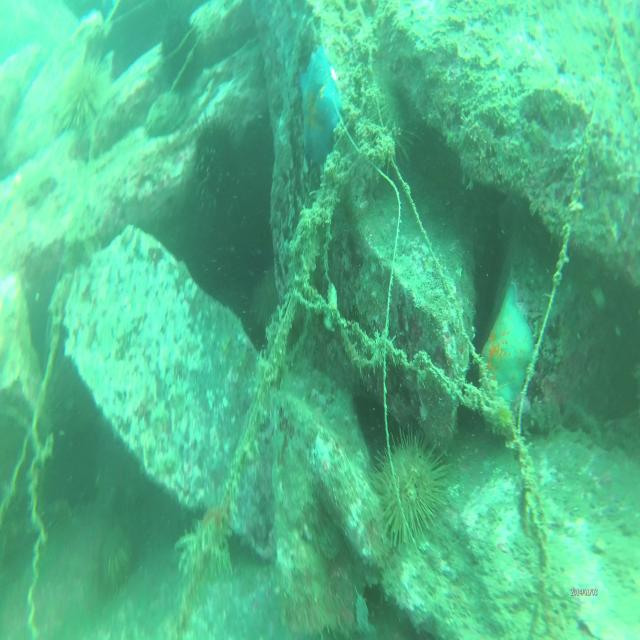echinus: (377, 429, 448, 543), (56, 58, 108, 133), (194, 117, 236, 191), (160, 18, 200, 82), (98, 523, 137, 587)
starfish: (479, 277, 537, 426), (298, 44, 342, 169)
